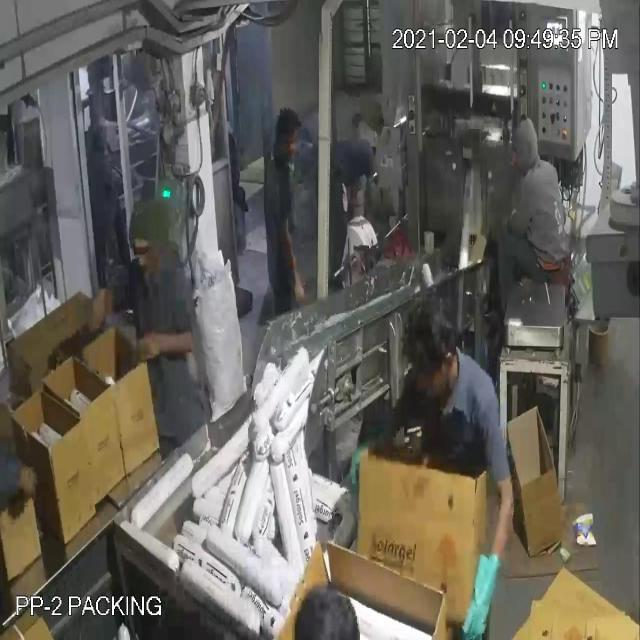gloves: (461, 535, 513, 640)
no-gloves: (276, 201, 318, 323), (130, 315, 202, 377), (85, 282, 116, 340)
